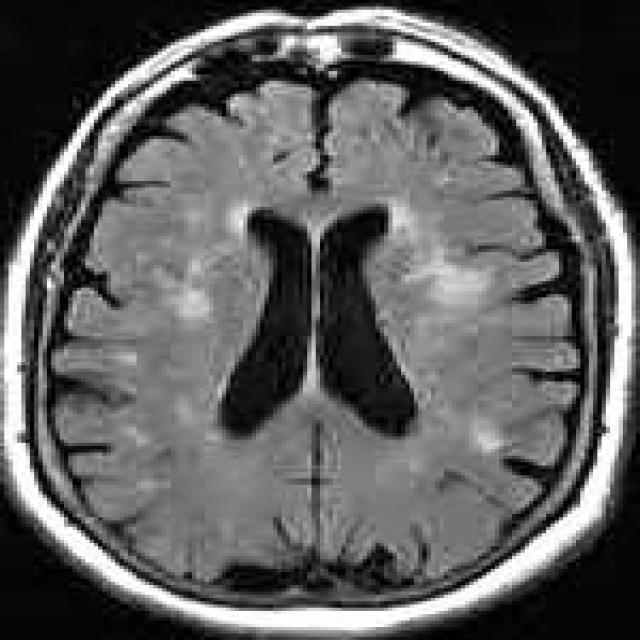notumor: (17, 10, 627, 611)
